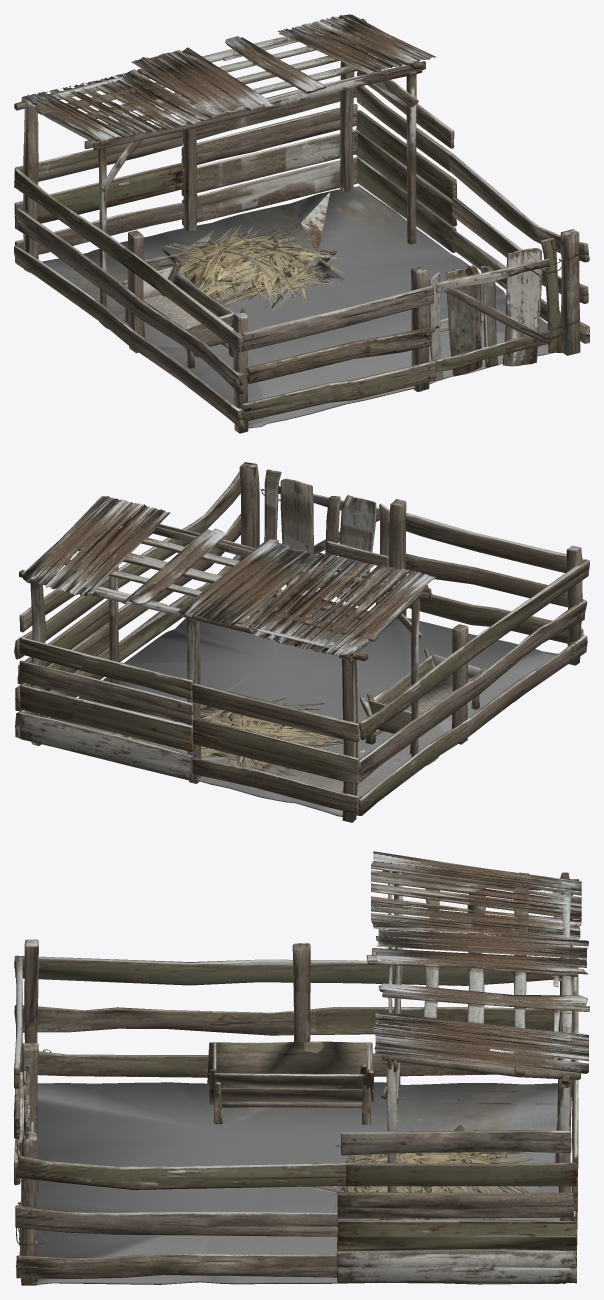
File: jt_animal_pen.glb
3 views of the same model, one above another, from view 1: azimuth 30°, elevation 25°; view 2: azimuth 150°, elevation 25°; view 3: azimuth 270°, elevation 25° (orthographic). The views are drawn at different scales.
Bounding box in the file's own units: 0.8208 × 0.4277 × 0.9473.
Materials: 1 (1 with a texture image).
